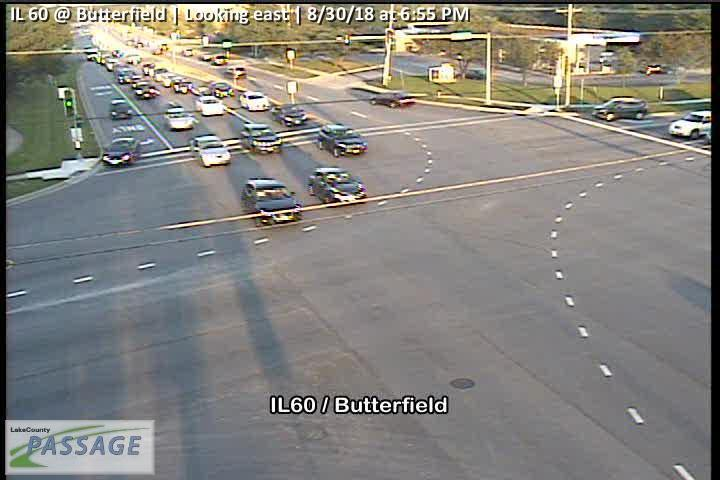SUV: (315, 123, 366, 158), (593, 95, 648, 121)
Sedan: (241, 177, 304, 227), (306, 166, 368, 206), (238, 121, 282, 154), (188, 135, 233, 167), (97, 138, 142, 166), (269, 102, 309, 126), (367, 91, 417, 107), (163, 104, 195, 129), (239, 89, 271, 112), (192, 95, 225, 116), (107, 98, 134, 121), (210, 81, 234, 98)
